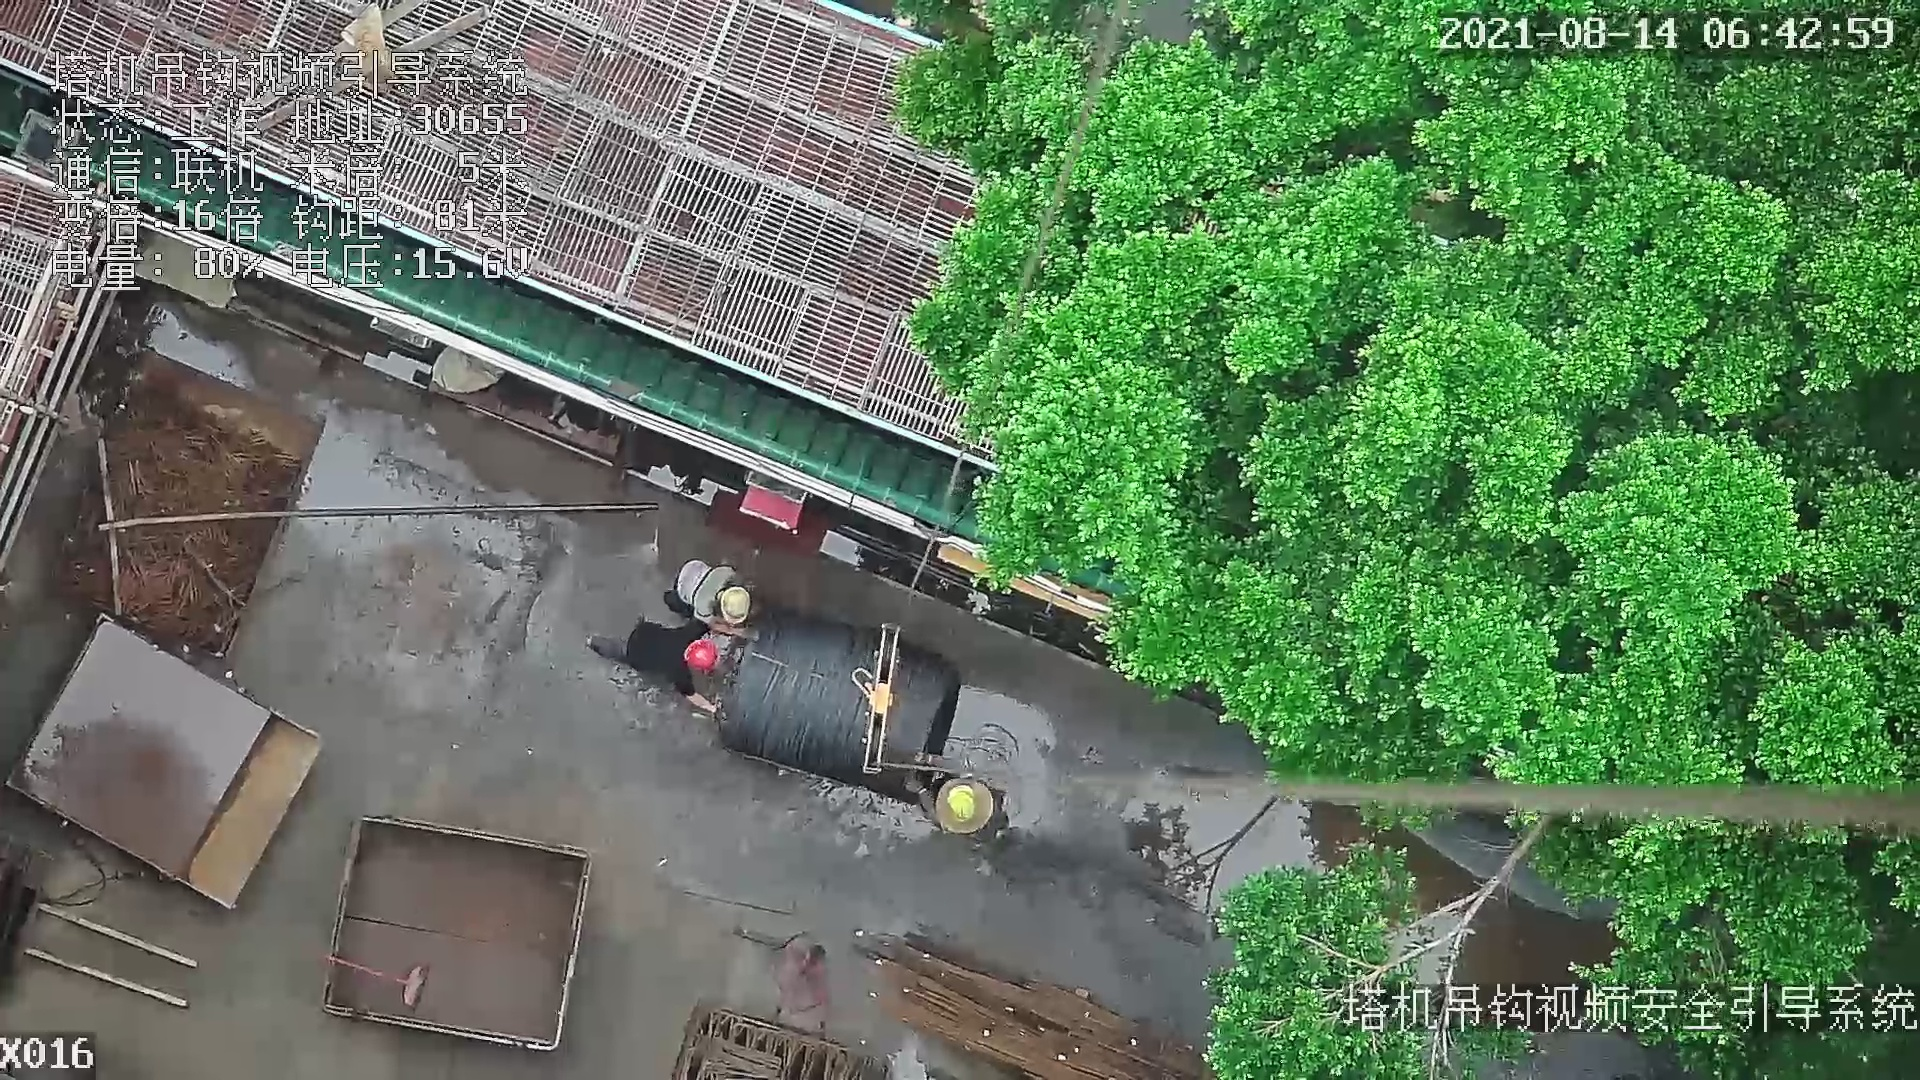helmet: (712, 582, 749, 634), (681, 632, 721, 667), (944, 782, 978, 824)
hook: (851, 617, 903, 774)
person: (587, 617, 749, 733), (892, 762, 1020, 859), (658, 545, 768, 654)
